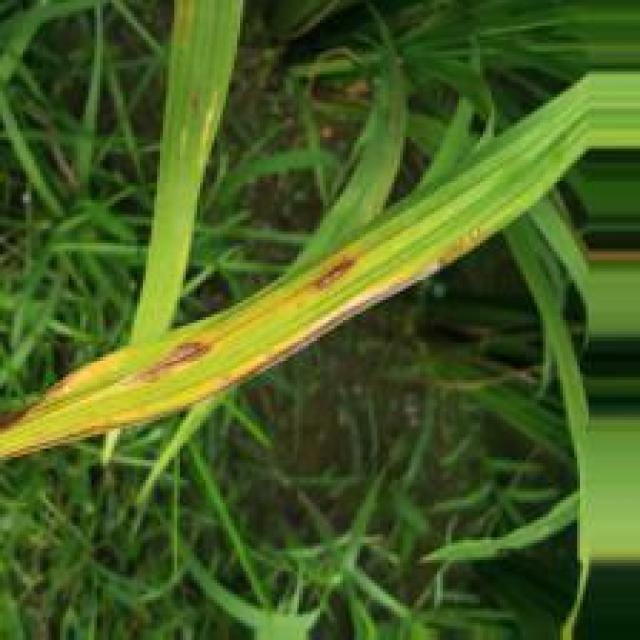Narrow_Brown_Leaf_Spot: (0, 233, 488, 464)
